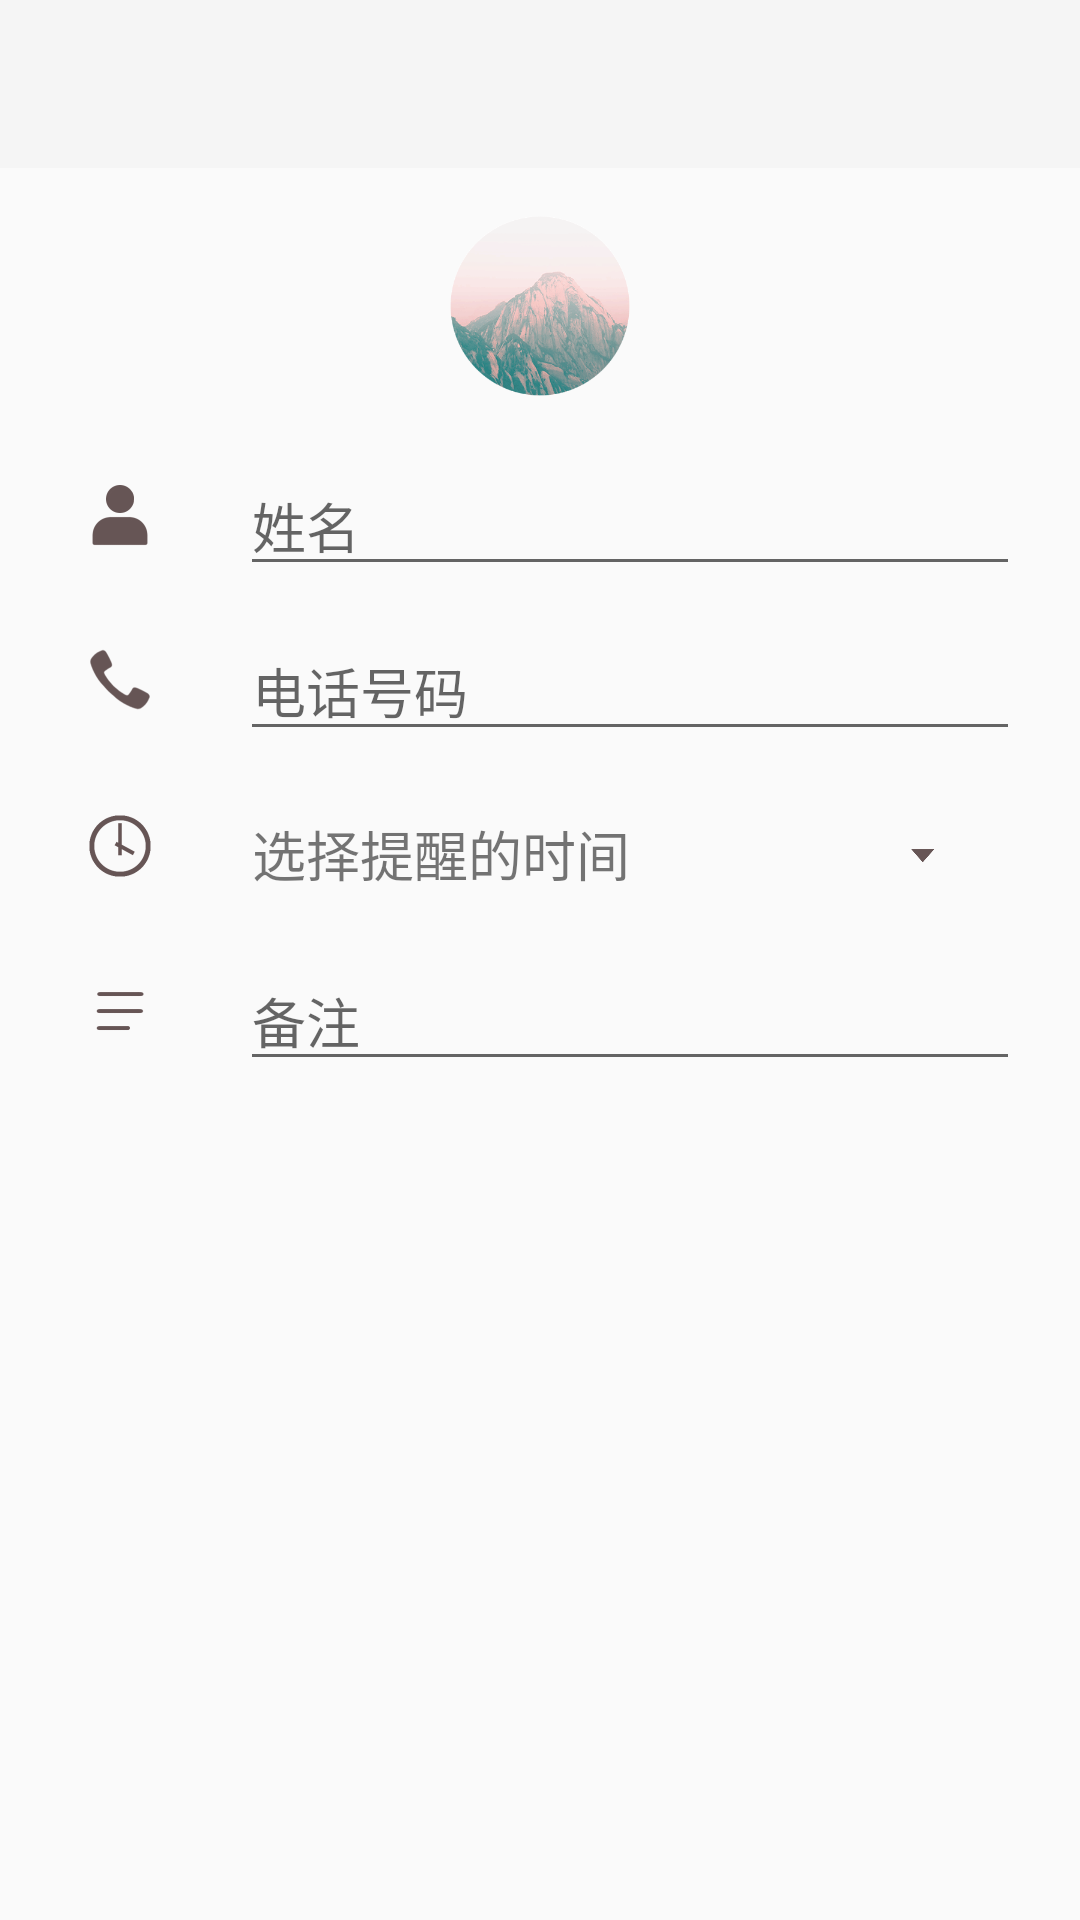

Where to tap for icons on this 1080*1920 app screen, as (x=x, y=y):
note: (x=120, y=1011)
person: (x=120, y=515)
phone: (x=120, y=679)
time: (x=120, y=846)
